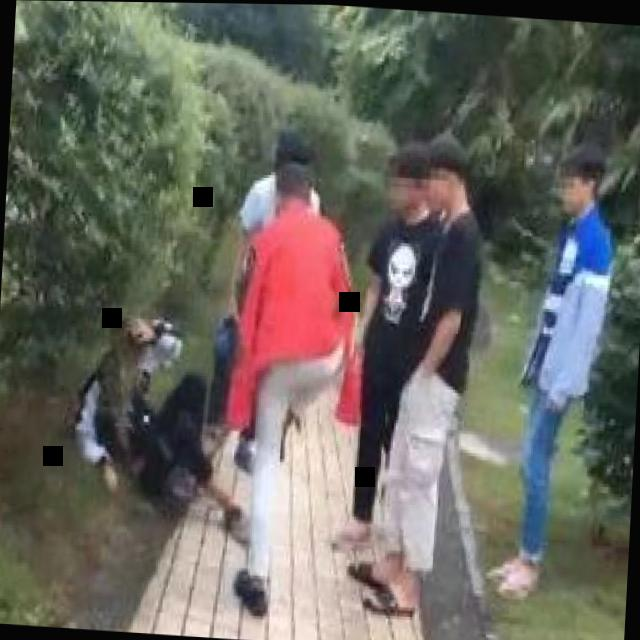Fall-Detected: (60, 289, 246, 514)
